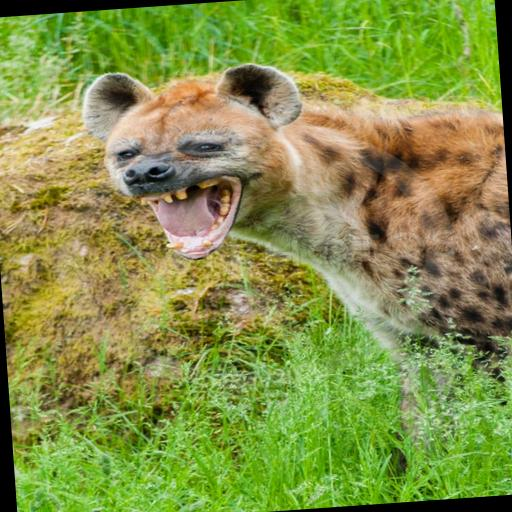hyenas: (66, 13, 512, 394)
